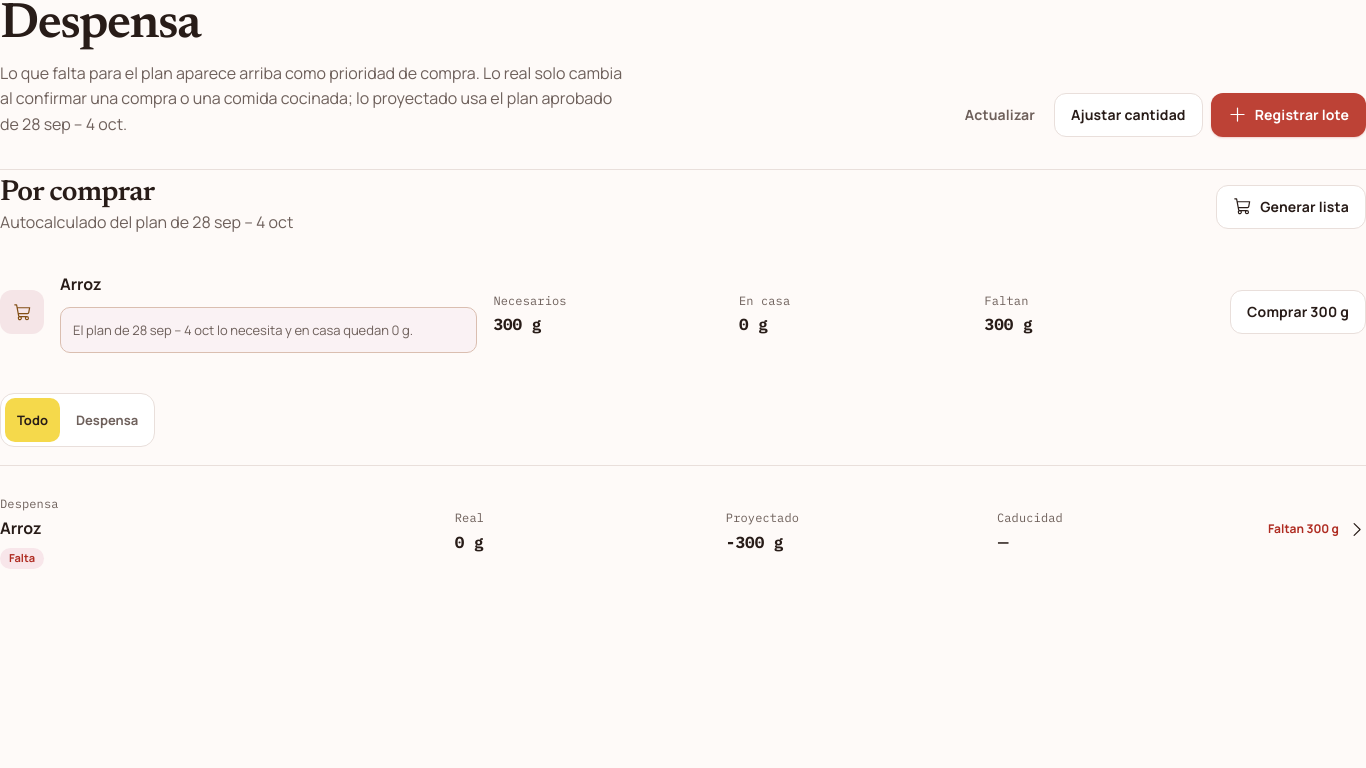
Test: despensa unified view › opens a prefilled purchase dialog from a shortage row
Click the button "Comprar 300 g" at (1298, 312), box left=1230, top=290, right=1365, bottom=334
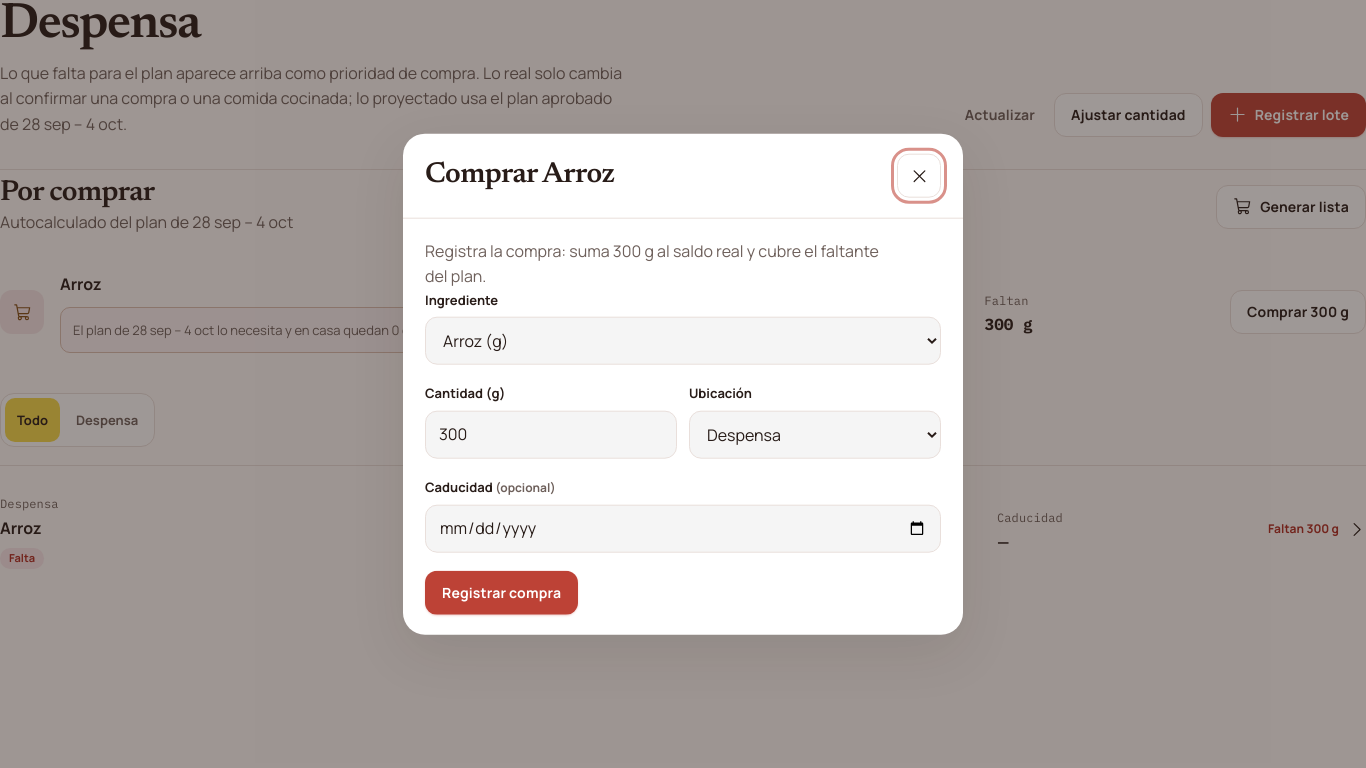
Now the dialog "Comprar Arroz" is shown, box left=403, top=134, right=963, bottom=634
Now the field labelled "Cantidad (g)" holds "300", box left=425, top=410, right=677, bottom=458
Now the dropdown labelled "Ingrediente" shows "Arroz (g)", box left=425, top=317, right=941, bottom=365
